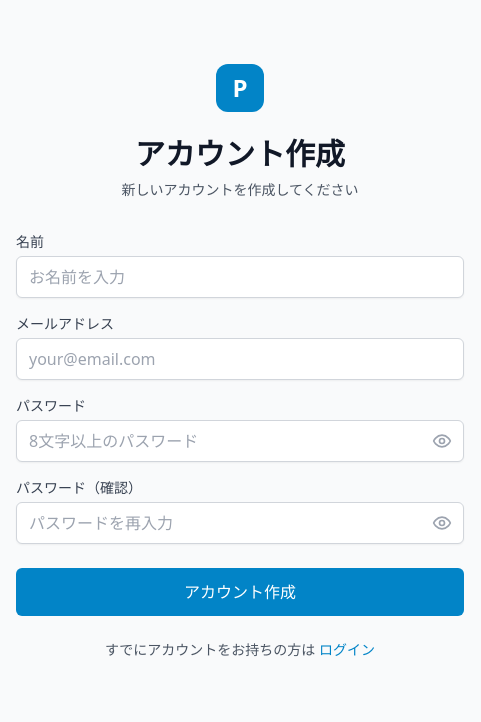
it: Authentication › RegisterPage › validates required fields
Click the button "アカウント作成" at x=240, y=592, box left=16, top=568, right=464, bottom=616
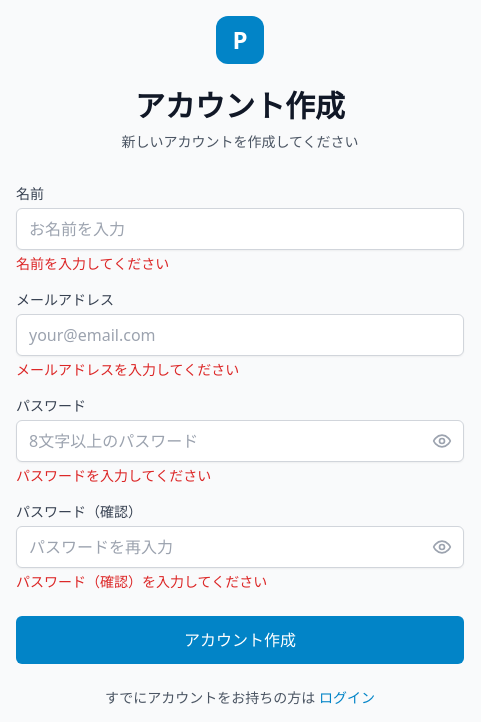
Expected: the text "名前を入力してください" is shown, left=16, top=254, right=169, bottom=273
Expected: the text "メールアドレスを入力してください" is shown, left=16, top=360, right=239, bottom=379
Expected: the text "パスワードを入力してください" is shown, left=16, top=466, right=211, bottom=485
